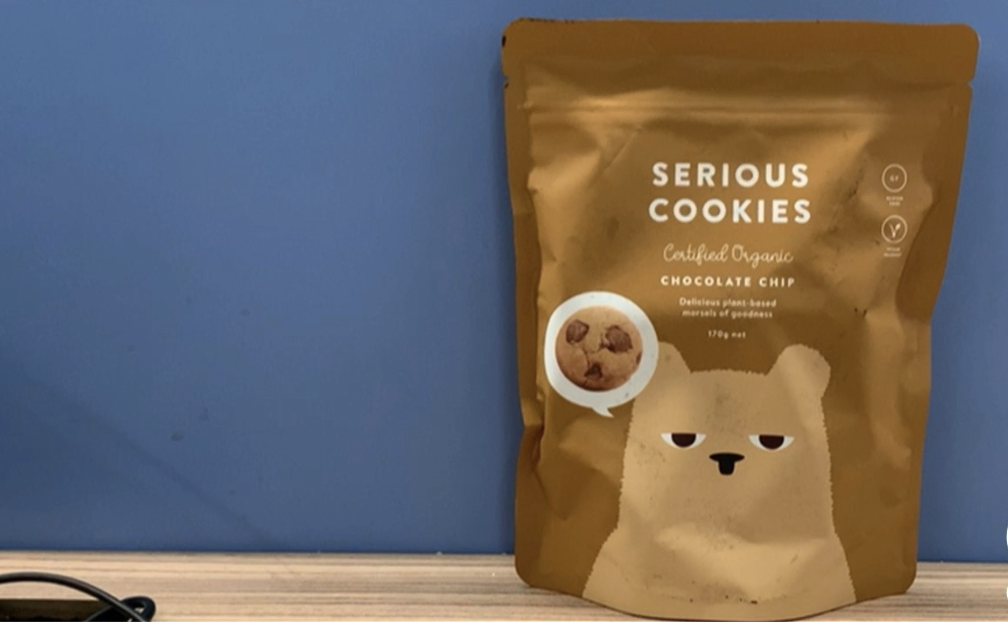cookies_150g: (540, 148, 894, 569)
